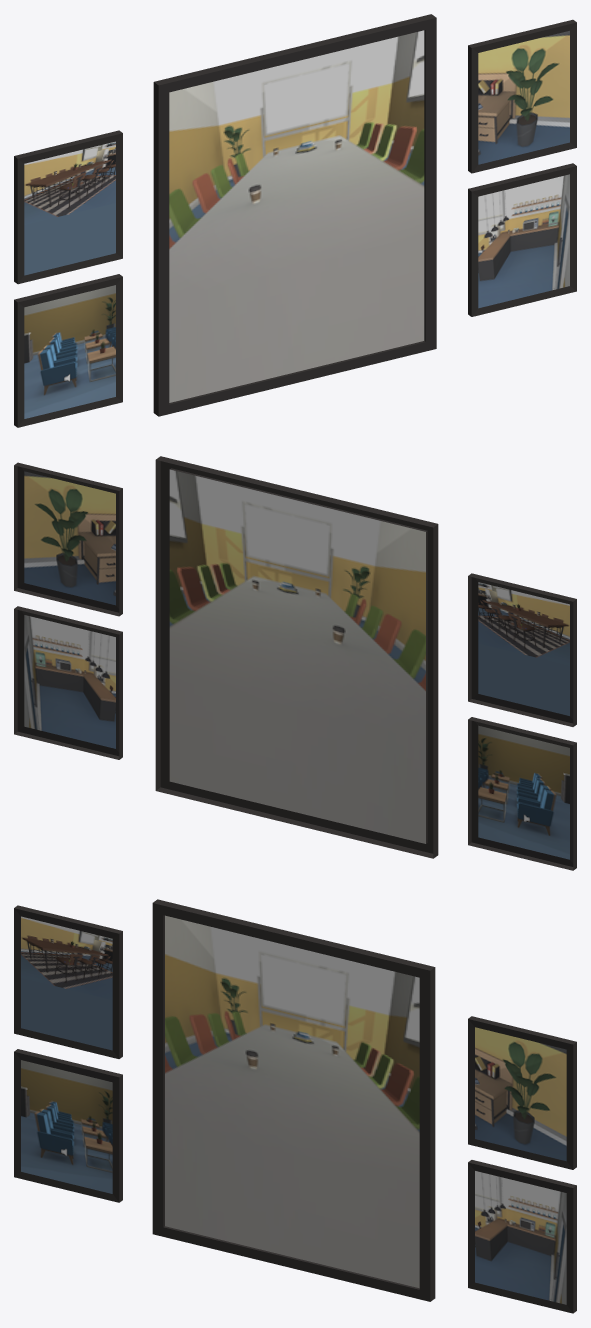
File: frame.FBX
3 views of the same model, one above another, from view 1: azimuth 30°, elevation 25°; view 2: azimuth 150°, elevation 25°; view 3: azimuth 330°, elevation 25° (orthographic).
Visible parts, largest first — view 1: frame; view 2: frame; view 3: frame.
Part boxes in pixels (bbox=[...]): frame: bbox=[14, 14, 576, 427]; frame: bbox=[14, 456, 576, 870]; frame: bbox=[14, 899, 576, 1313].
Bounding box in the file's own units: 211 × 119 × 3.26.
1 material, 1 textured.
